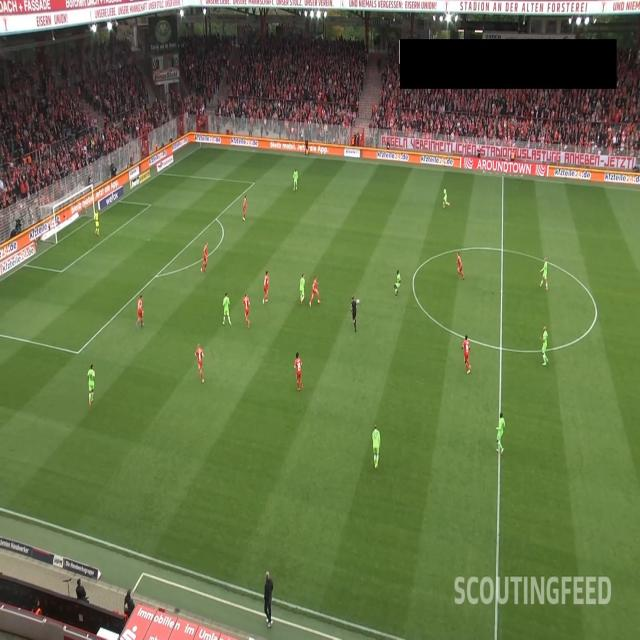ball: (356, 298, 360, 304)
